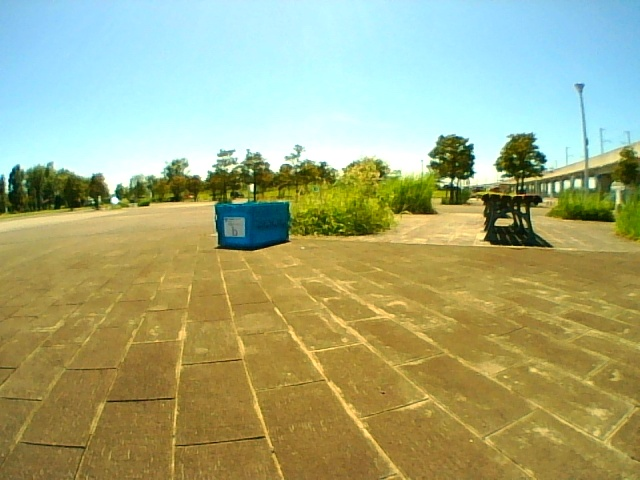blue_box: (216, 203, 289, 243)
tag_b: (223, 218, 244, 237)
